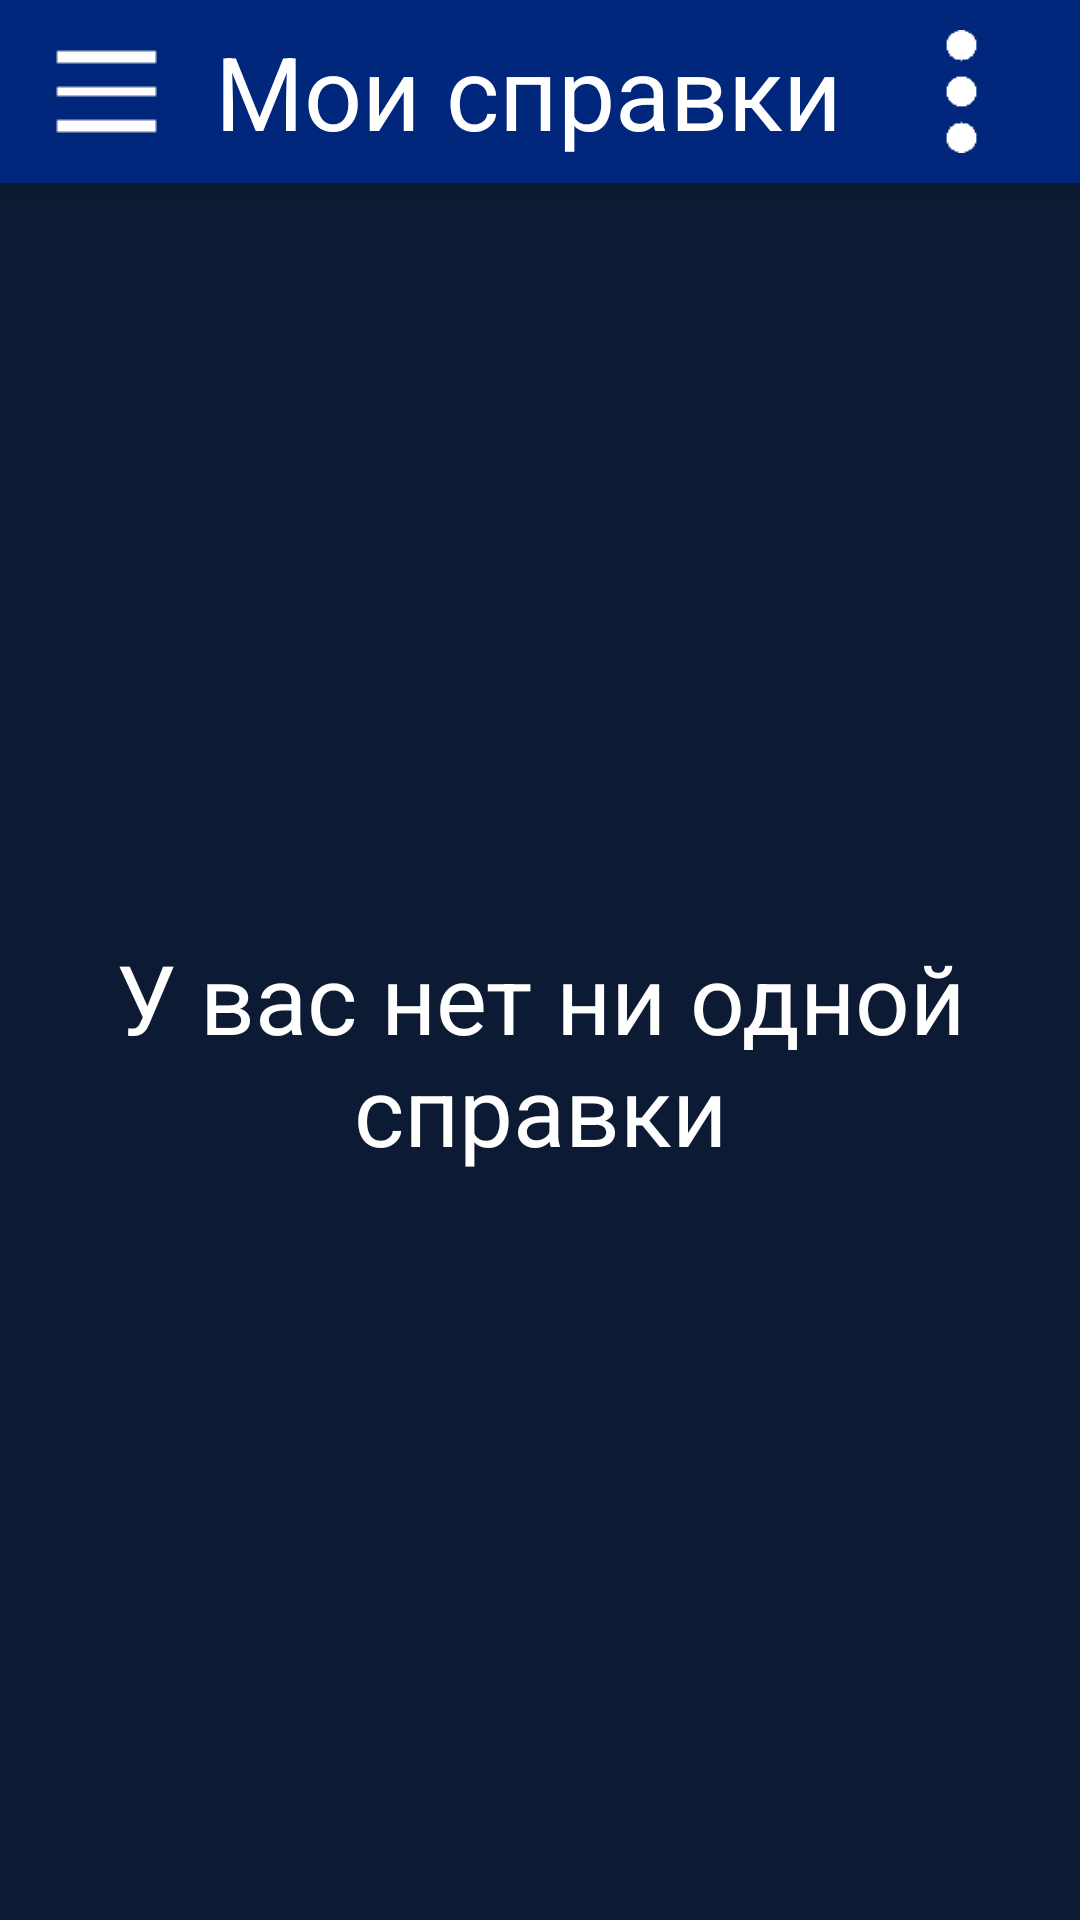

Where icons sit on this 1080x1920 app screen, as BBox(x1, y1, x2, y2):
leftmenuicon: BBox(56, 50, 157, 133)
